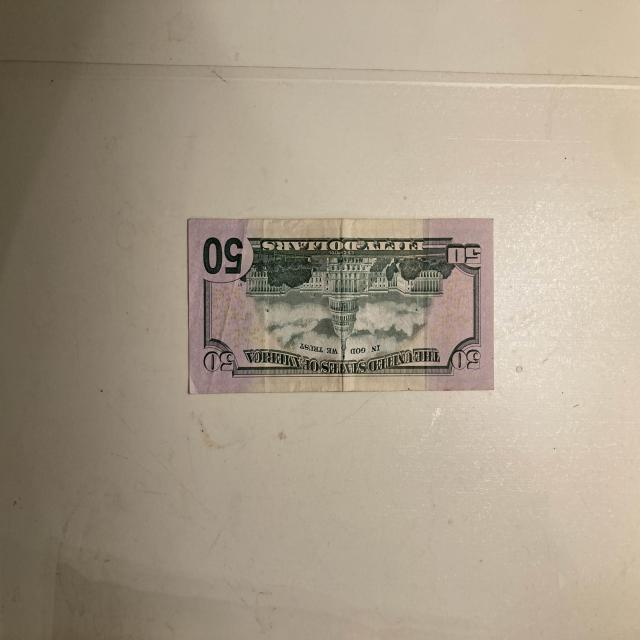fifty: (187, 216, 496, 395)
